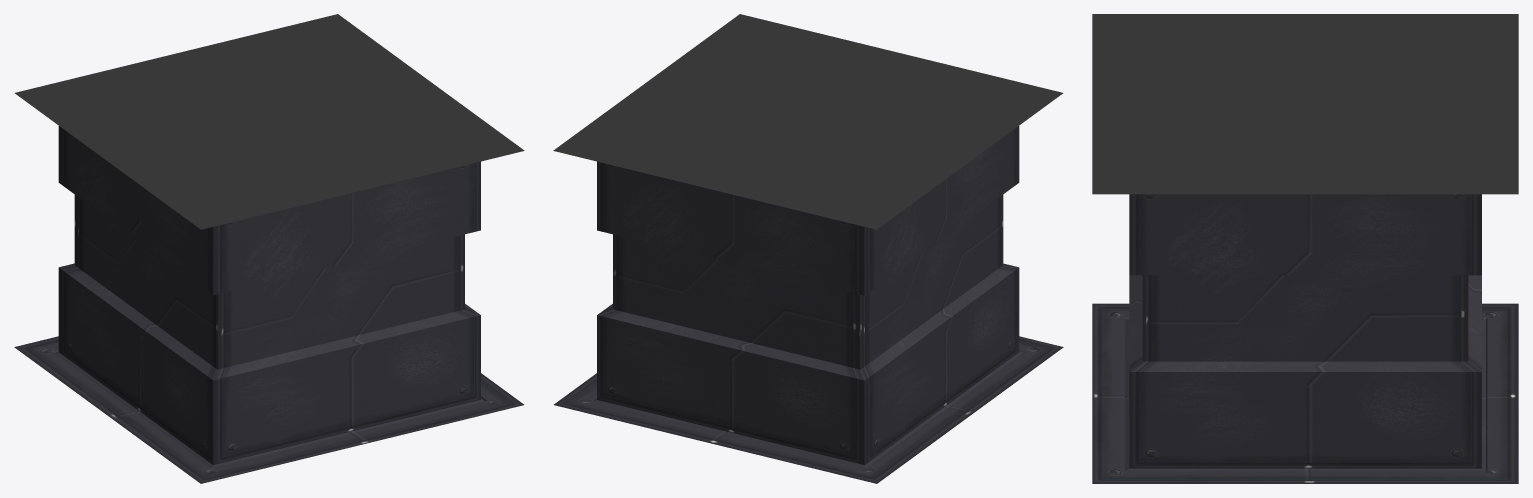
Rendered from chamberOpenColumn.fbx.
3 renders of one model, left to right at view 1: azimuth 30°, elevation 25°; view 2: azimuth 150°, elevation 25°; view 3: azimuth 270°, elevation 25°, orthographic. The views are drawn at different scales.
Visible parts, largest first — view 1: int_entrance.000, int_entrance.001; view 2: int_entrance.000, int_entrance.001; view 3: int_entrance.000, int_entrance.001.
Part boxes in pixels (left/top/right/bottom): int_entrance.000: left=14, top=126, right=524, bottom=483; int_entrance.001: left=14, top=14, right=524, bottom=229; int_entrance.000: left=553, top=126, right=1063, bottom=483; int_entrance.001: left=553, top=14, right=1063, bottom=229; int_entrance.000: left=1092, top=194, right=1518, bottom=483; int_entrance.001: left=1092, top=14, right=1518, bottom=194.
Bounding box in the file's own units: 4 × 3.02 × 4.
